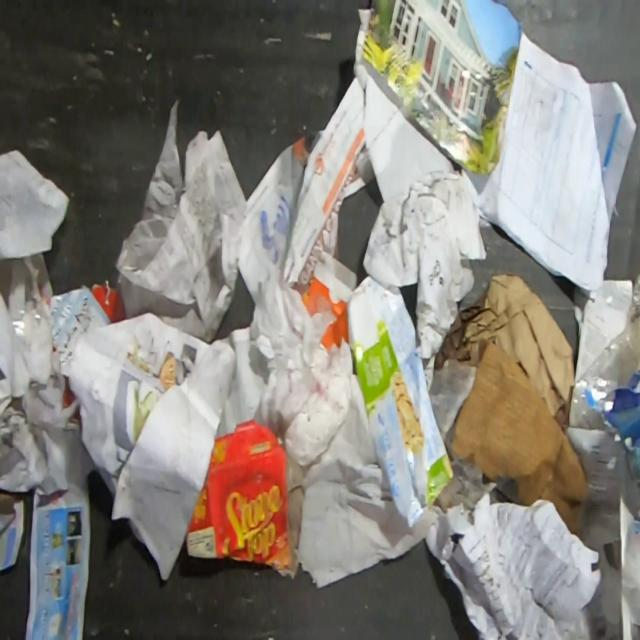cardboard: (451, 337, 591, 533), (185, 418, 291, 567), (586, 367, 640, 478), (81, 278, 124, 324), (61, 380, 78, 407)
rigid_plastic: (568, 268, 640, 428), (9, 304, 55, 350)
